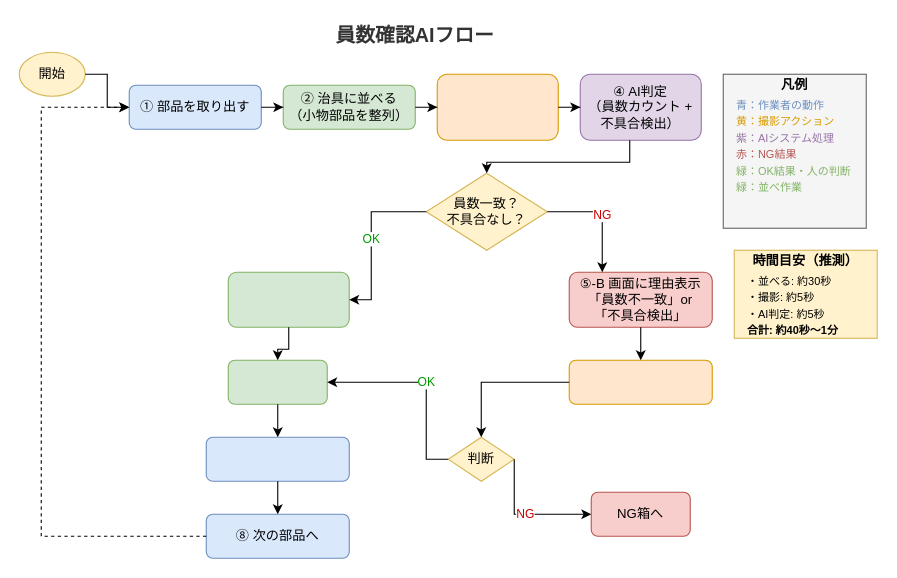
Some shapes in this 897 by 578 pixel diagram are drawn without their labels. Each missing label, with the box of its shape:
OK箱へ （誤検知）: (227, 359, 327, 404)
③ 撮影（タップ） 上から1枚: (436, 73, 558, 140)
⑤-A 結果表示 「○個 一致」: (227, 271, 349, 327)
⑥ 人が目視で再確認: (568, 359, 712, 404)
⑦ 結果をM3/M4に記録: (205, 436, 349, 481)
